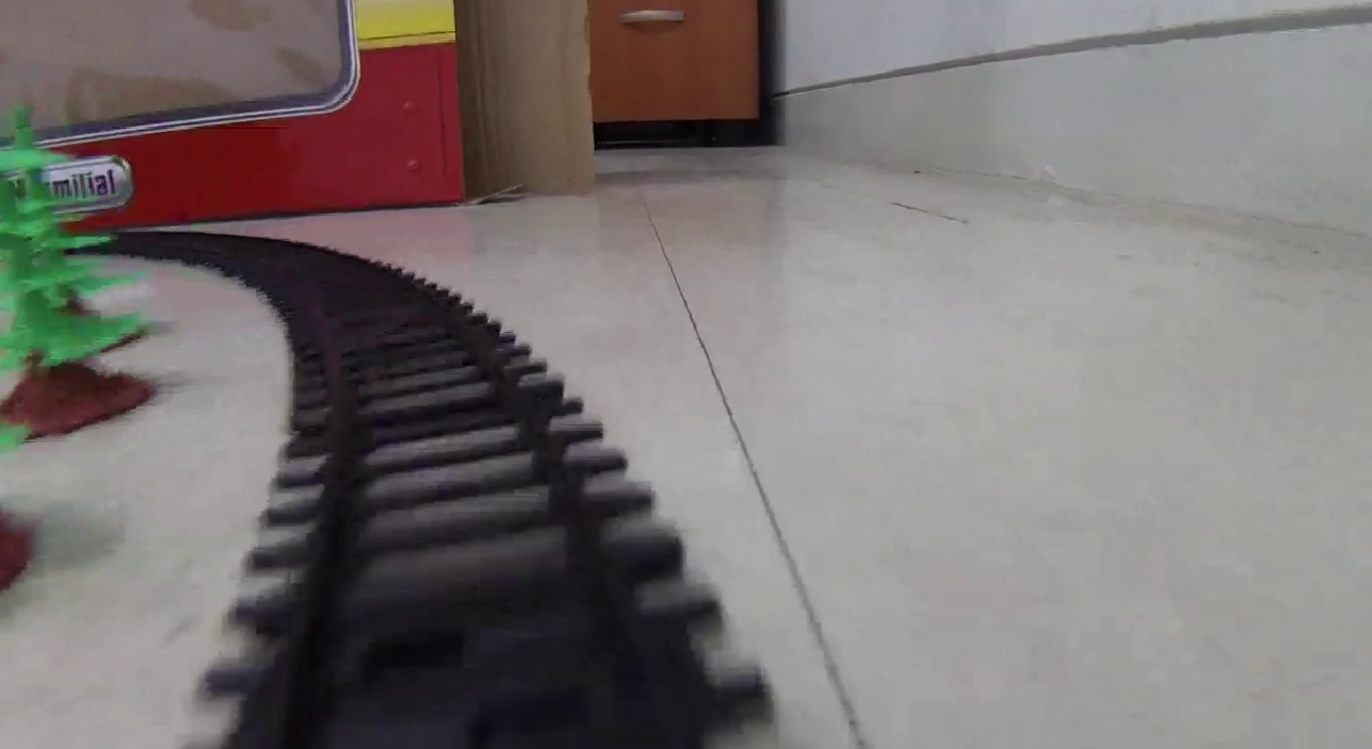tree: (3, 101, 159, 443)
